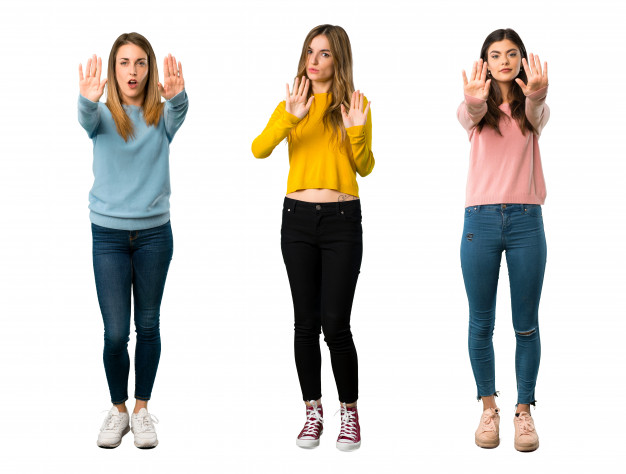person: (254, 16, 391, 196), (440, 25, 568, 215), (80, 36, 184, 180)
